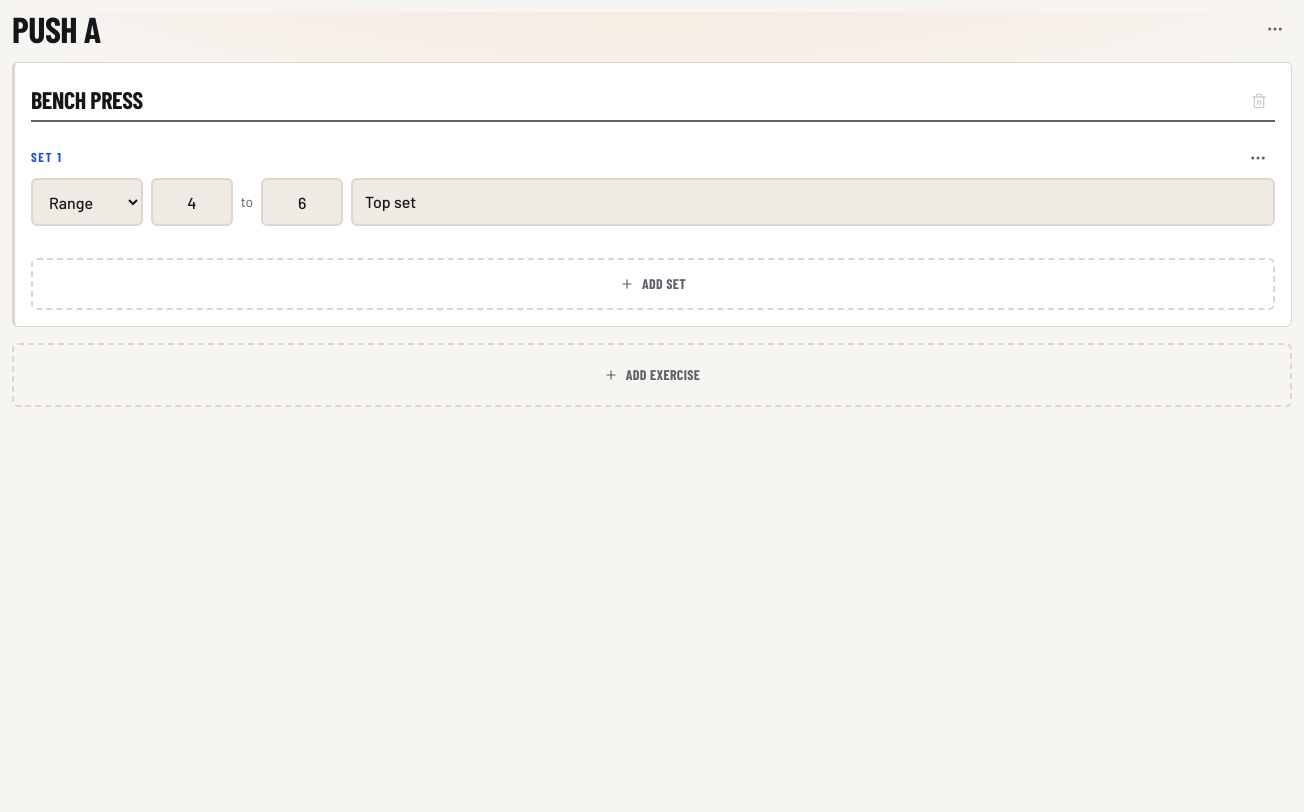
Test: WorkoutEditor › adds an exercise to the draft without saving anything
Click the button "Add exercise" at (652,375), box [12, 343, 1292, 407]
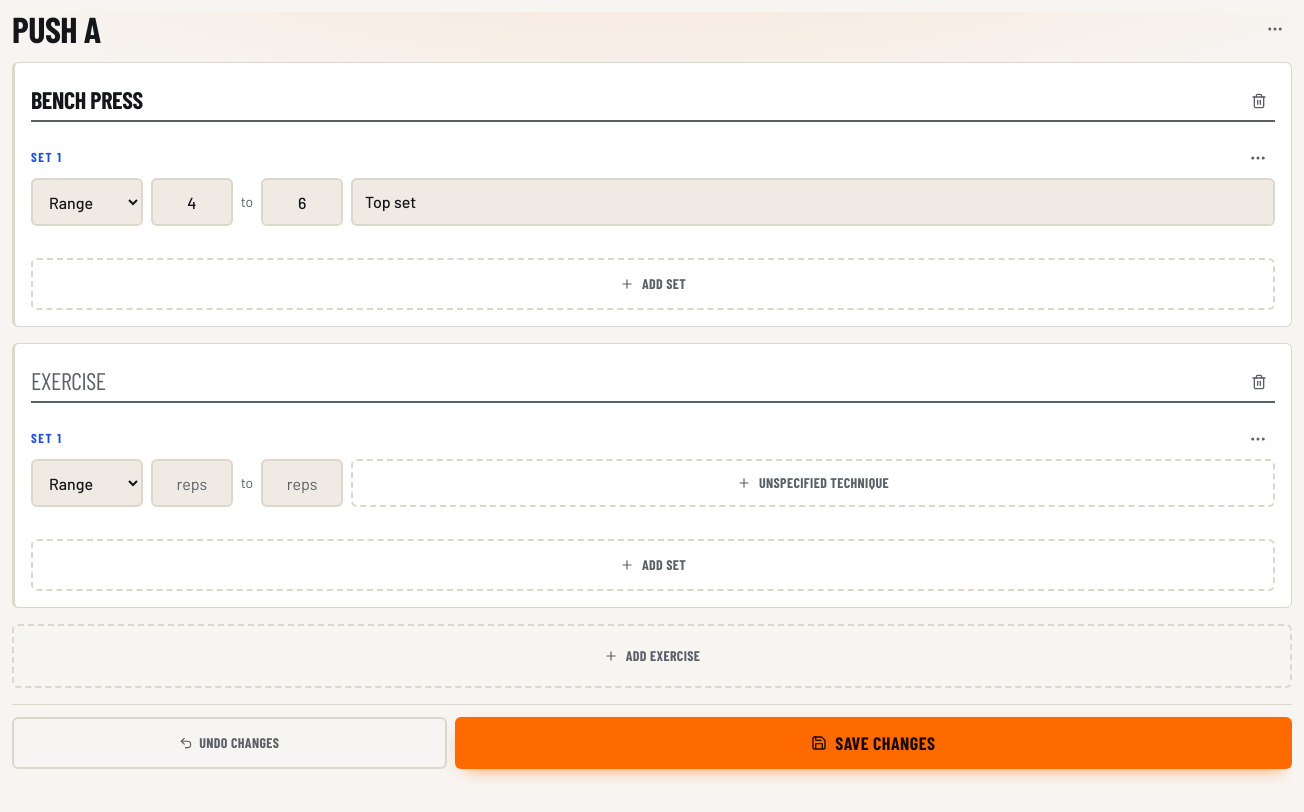
expect the dropdown named "Exercise 2 name" is empty: met, box [31, 360, 1275, 403]
expect the button named "Delete exercise 1" is enabled: met, box [1243, 84, 1275, 116]
